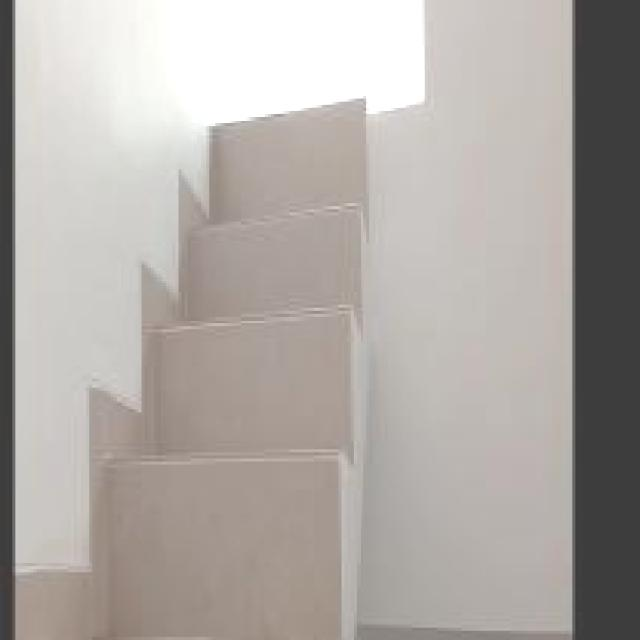upstair: (137, 90, 374, 640)
